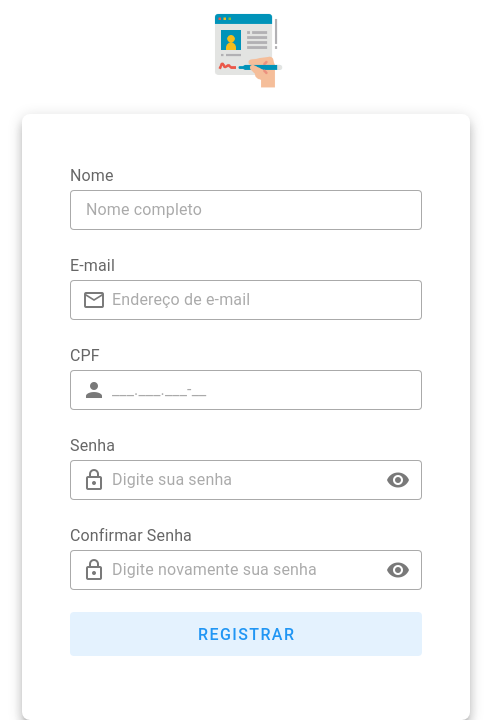
Test: Register › Register sem input
The width and height of the screenshot is (493, 720).
(page scrolled)
Step 1. Click the button with id "btn-submit" → (246, 634), box [70,612,422,656]
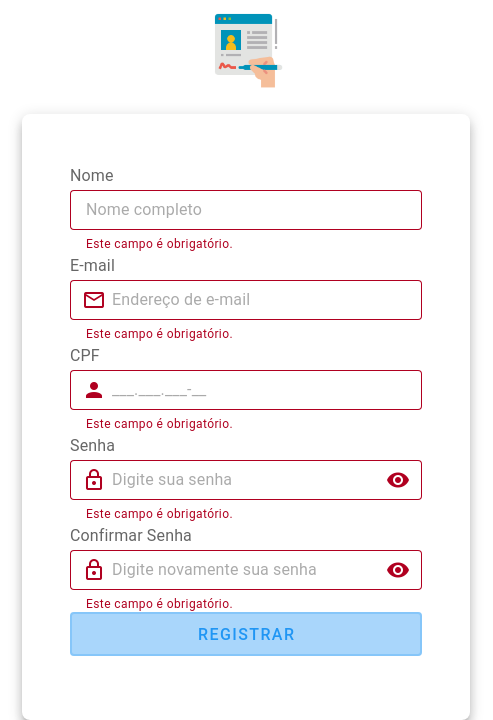
Now the 2nd text "Este campo é obrigatório." is shown, box [86,327,233,341]
Now the 3rd text "Este campo é obrigatório." is shown, box [86,417,233,431]
Now the 4th text "Este campo é obrigatório." is shown, box [86,507,233,521]
